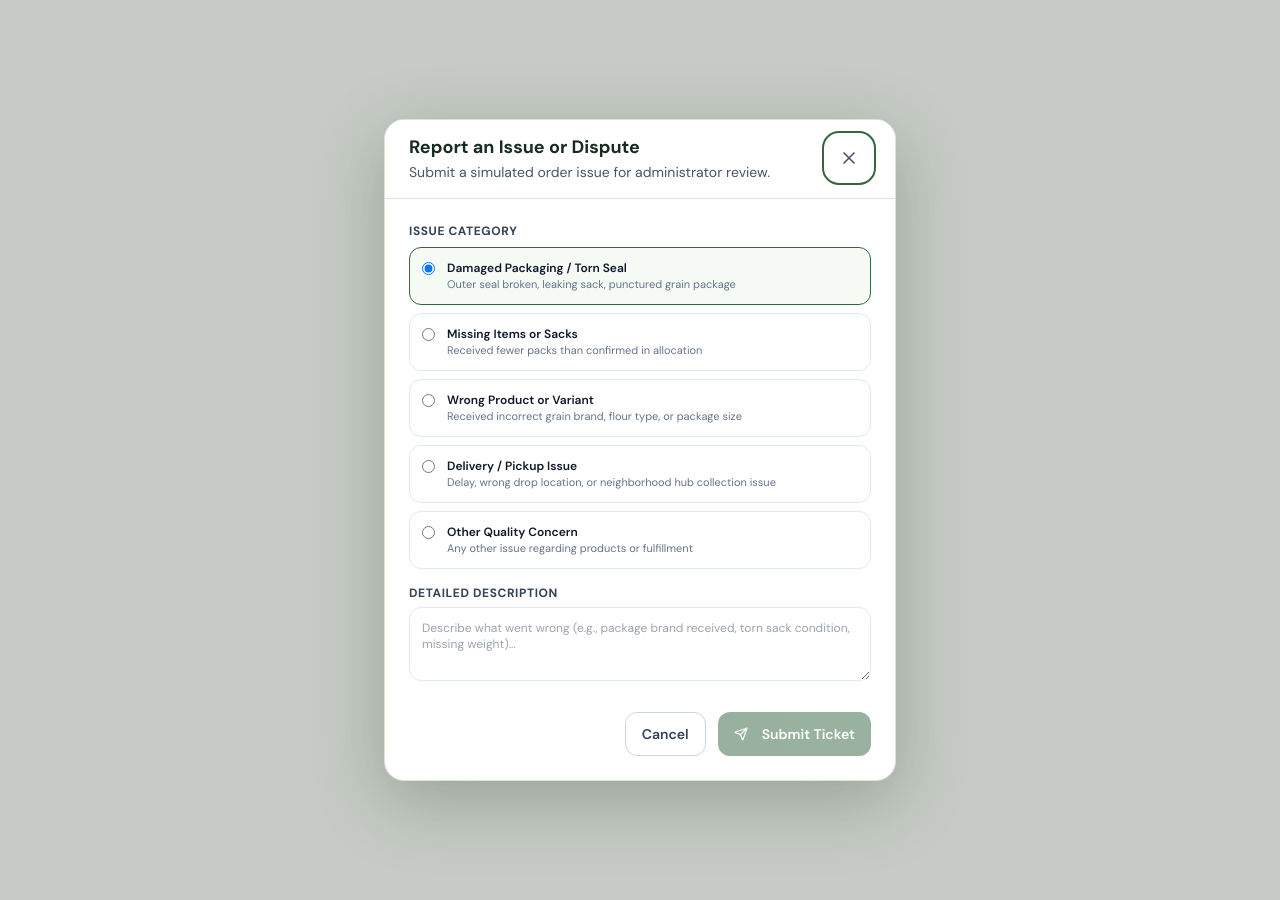
Test: Milestone 5 Frontend Components › renders DisputeModal and submits customer ticket
Expected: the heading "Report an Issue or Dispute" is shown, [409,135,640,159]
Expected: the text "Damaged Packaging / Torn Seal" is shown, [447,260,627,276]
Replace the text in the text box with placeholder "Describe what went wrong" with "Rice bag had a torn outer plastic seal.": (640,644) [409,607,871,681]
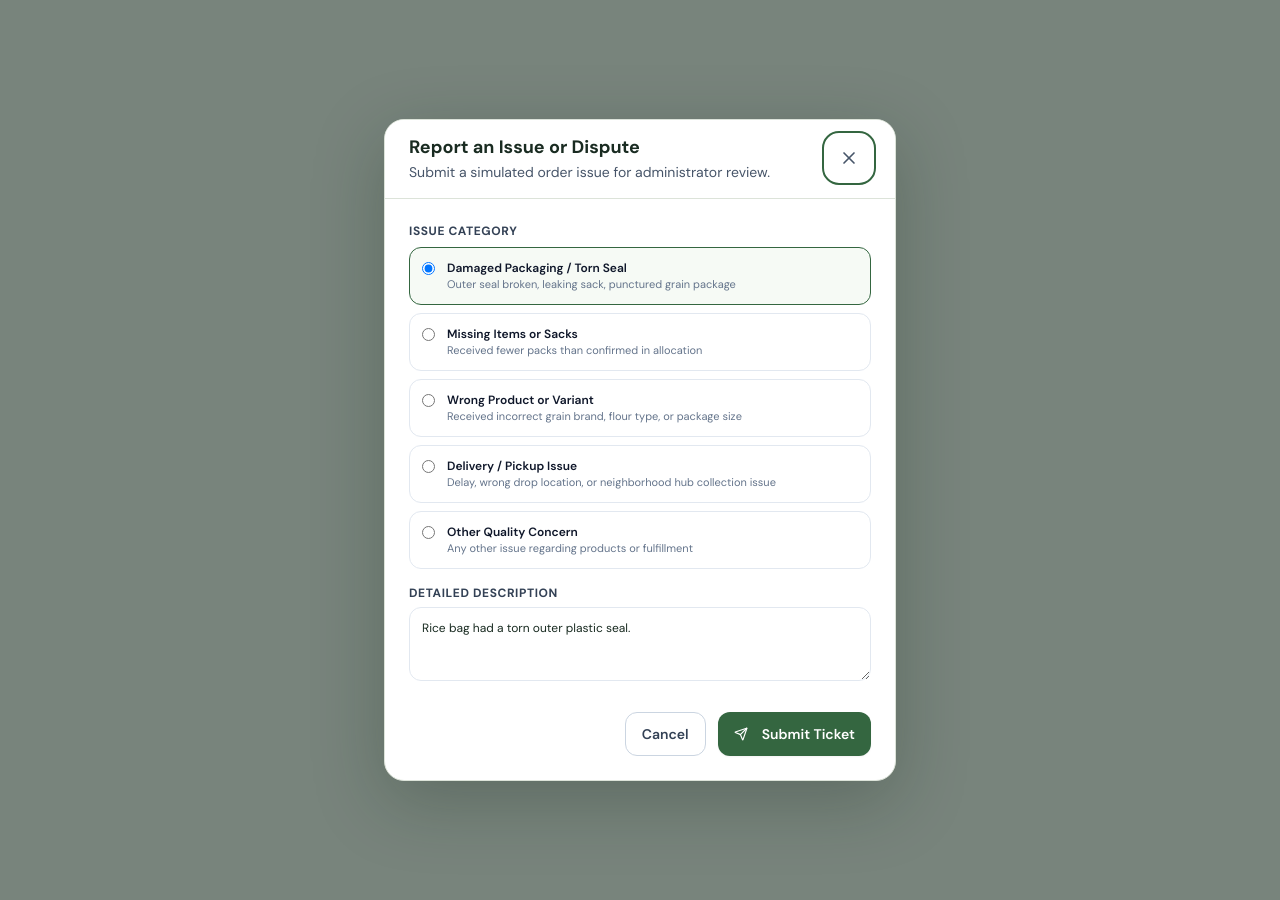
Click the button "Submit Ticket": (794,734) [718,712,871,756]
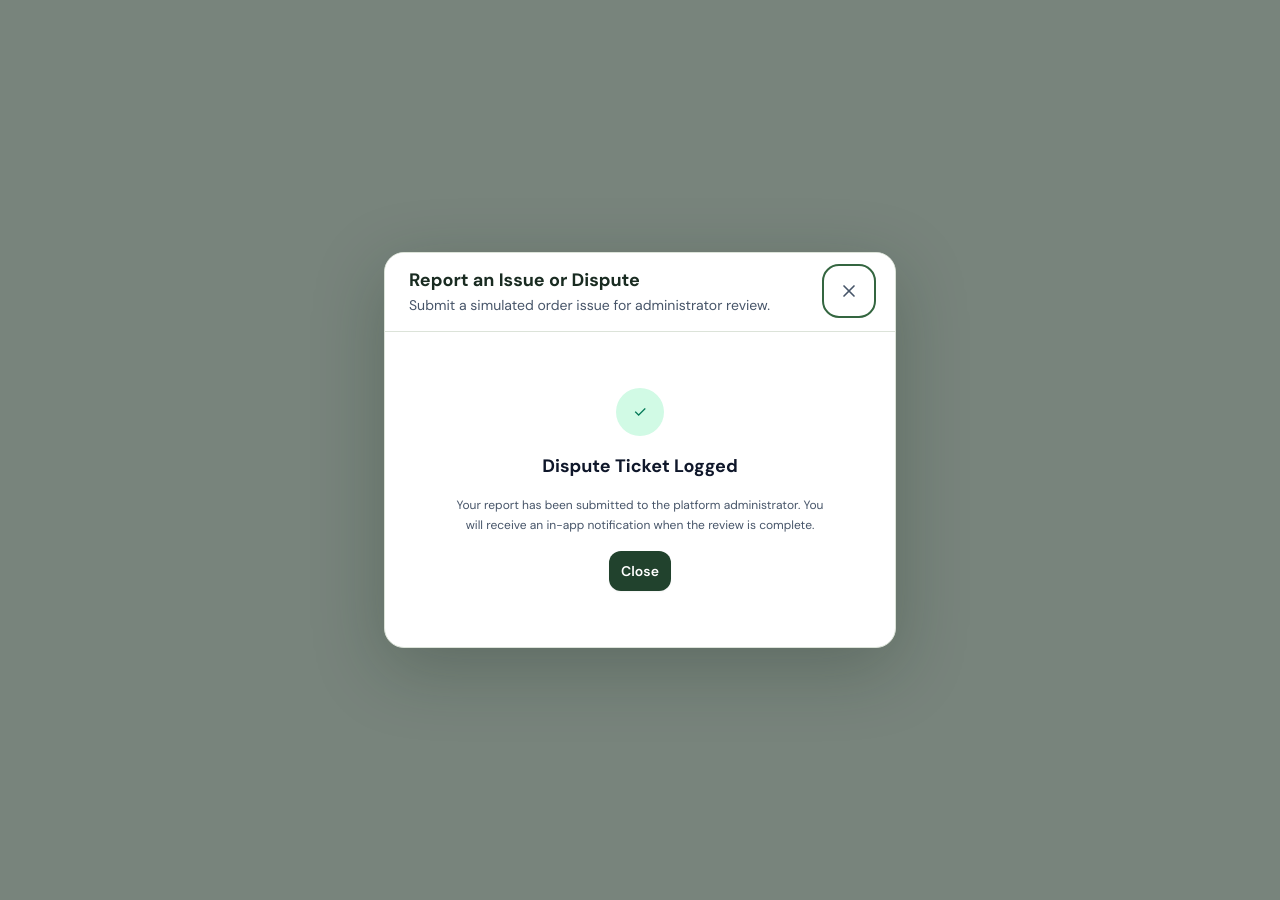
Expected: the heading "Dispute Ticket Logged" is shown, [542,454,738,478]
